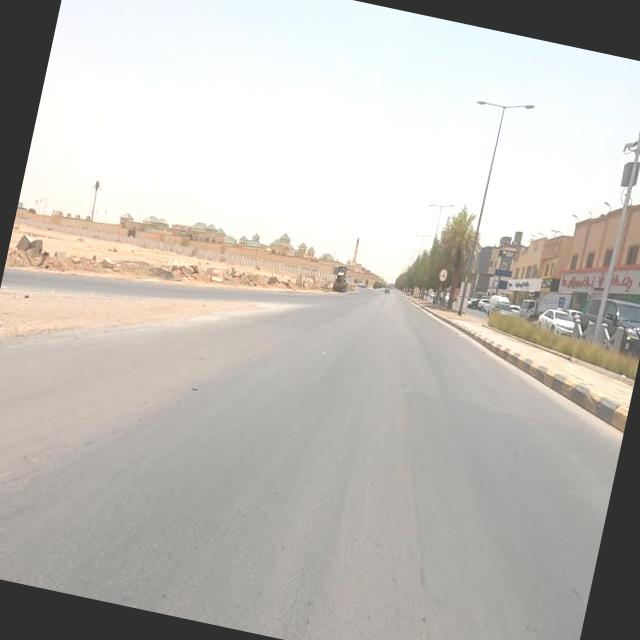debris: (0, 193, 107, 309), (150, 237, 239, 304), (88, 236, 141, 288), (247, 256, 306, 298)
